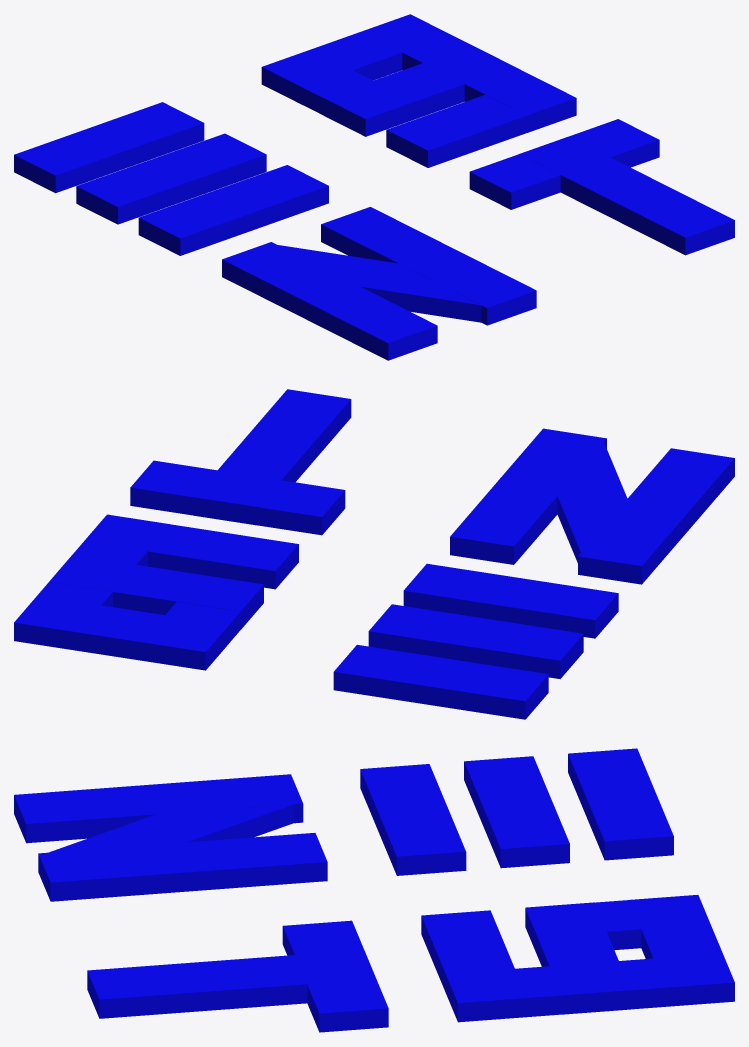
Rendered from EgorNetwork.glb.
The picture shows the model from 3 angles, top to bottom: view 1: azimuth 30°, elevation 25°; view 2: azimuth 150°, elevation 25°; view 3: azimuth 270°, elevation 25°; orthographic projection. The views are drawn at different scales.
Parts seen in each view (by area): view 1: Куб.005; view 2: Куб.005; view 3: Куб.005.
Part boxes in pixels (bbox=[...]): Куб.005: bbox=[14, 14, 734, 360]; Куб.005: bbox=[14, 389, 734, 719]; Куб.005: bbox=[14, 748, 734, 1032].
Bounding box in the file's own units: 1.78 × 0.0606 × 2.05.
